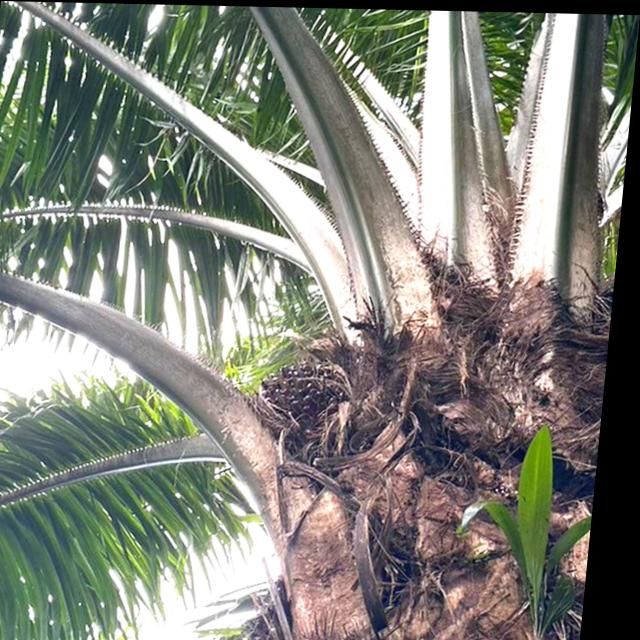almost: (244, 347, 372, 454)
